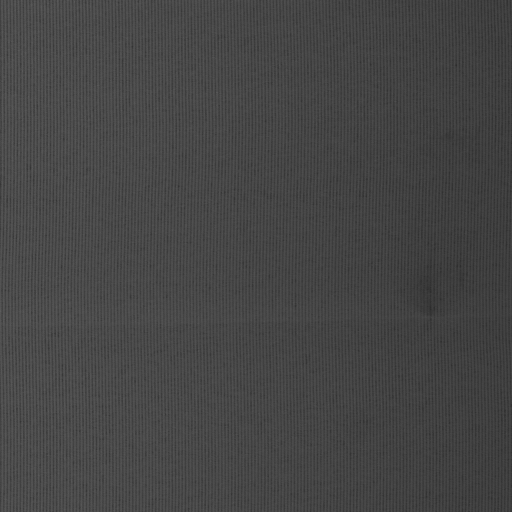defect: (1, 306, 512, 330)
